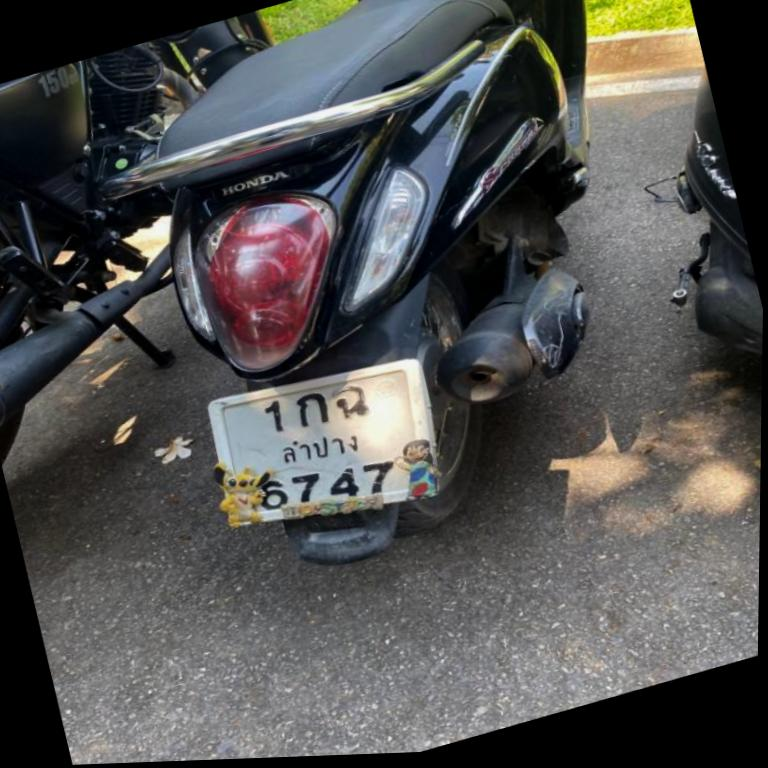license plate: (191, 332, 459, 564)
